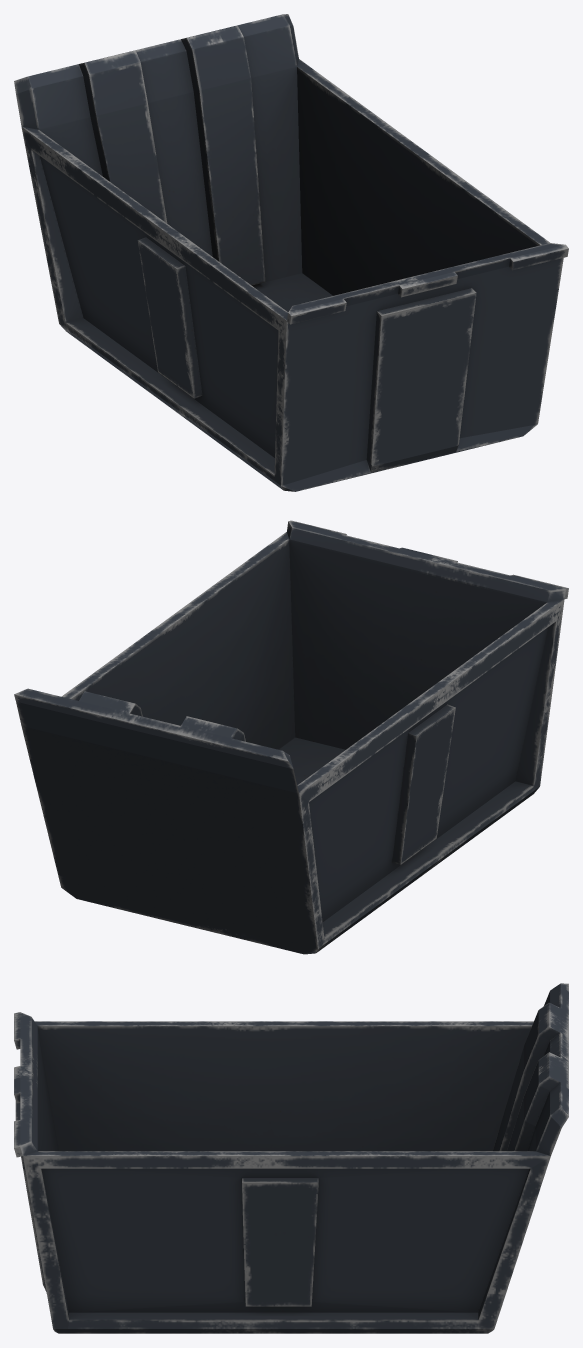
The model's file is TipperBucket.fbx.
3 views of the same model, one above another, from view 1: azimuth 30°, elevation 25°; view 2: azimuth 150°, elevation 25°; view 3: azimuth 270°, elevation 25° (orthographic).
Visible parts, largest first — view 1: bucket; view 2: bucket; view 3: bucket.
Part boxes in pixels (x1,y1,x2,y2): bucket: [14, 14, 568, 491]; bucket: [14, 520, 568, 954]; bucket: [14, 983, 568, 1333].
Bounding box in the file's own units: 258 × 211 × 447.
